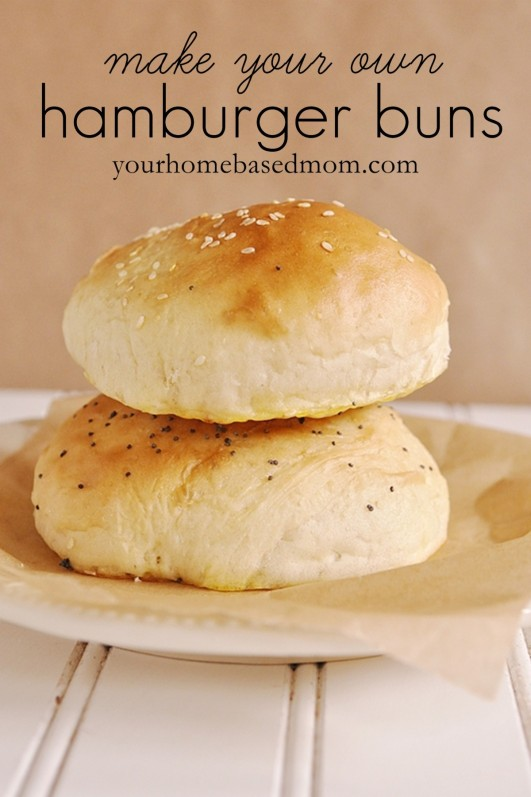hamburger_buns: (18, 396, 477, 592), (72, 190, 470, 405)
